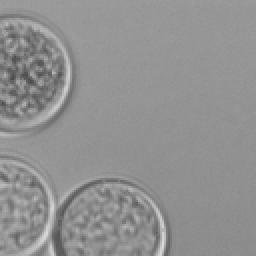picoshell: (52, 178, 166, 254), (0, 14, 70, 136), (0, 156, 54, 254)
